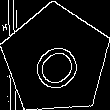O_NE: (23, 27, 89, 93)
